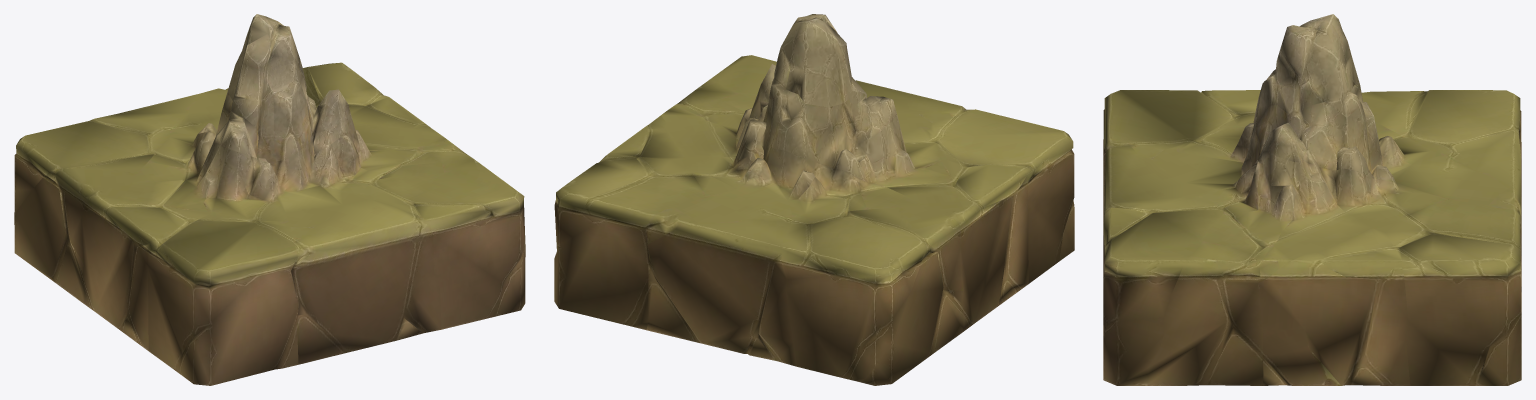
File: mountain.glb
3 renders of one model, left to right at view 1: azimuth 30°, elevation 25°; view 2: azimuth 150°, elevation 25°; view 3: azimuth 270°, elevation 25°, orthographic. The views are drawn at different scales.
Bounding box in the file's own units: 1.9 × 1.41 × 1.9.
1 material, 1 textured.
